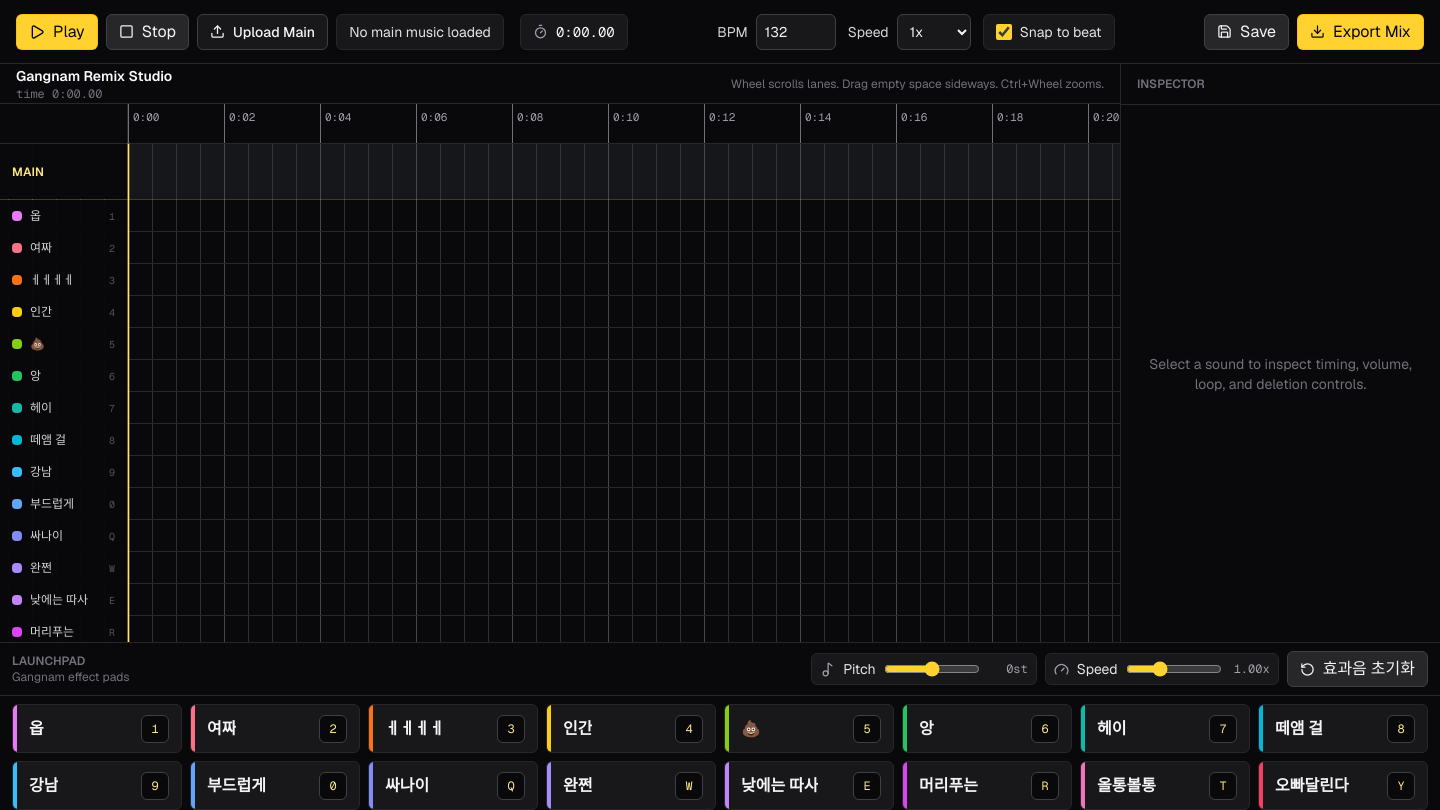
StudioShell › can clear placed effects from the launchpad
The width and height of the screenshot is (1440, 810).
Press 1
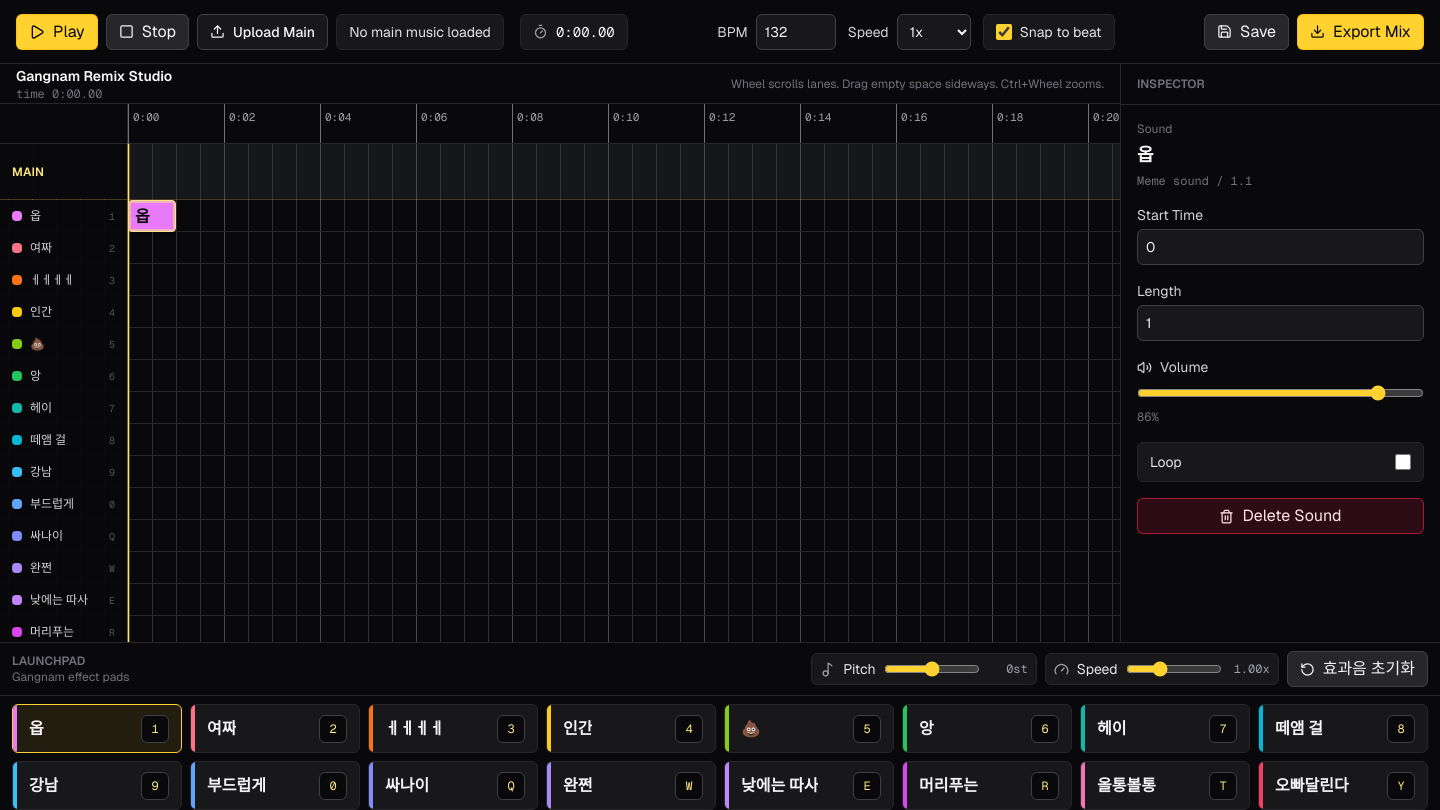
Expected: the button with test id "timeline-clip" is shown, [128,200,176,232]
Click the button labelled "효과음 초기화": coordinates (1357, 669) [1287,651,1428,687]
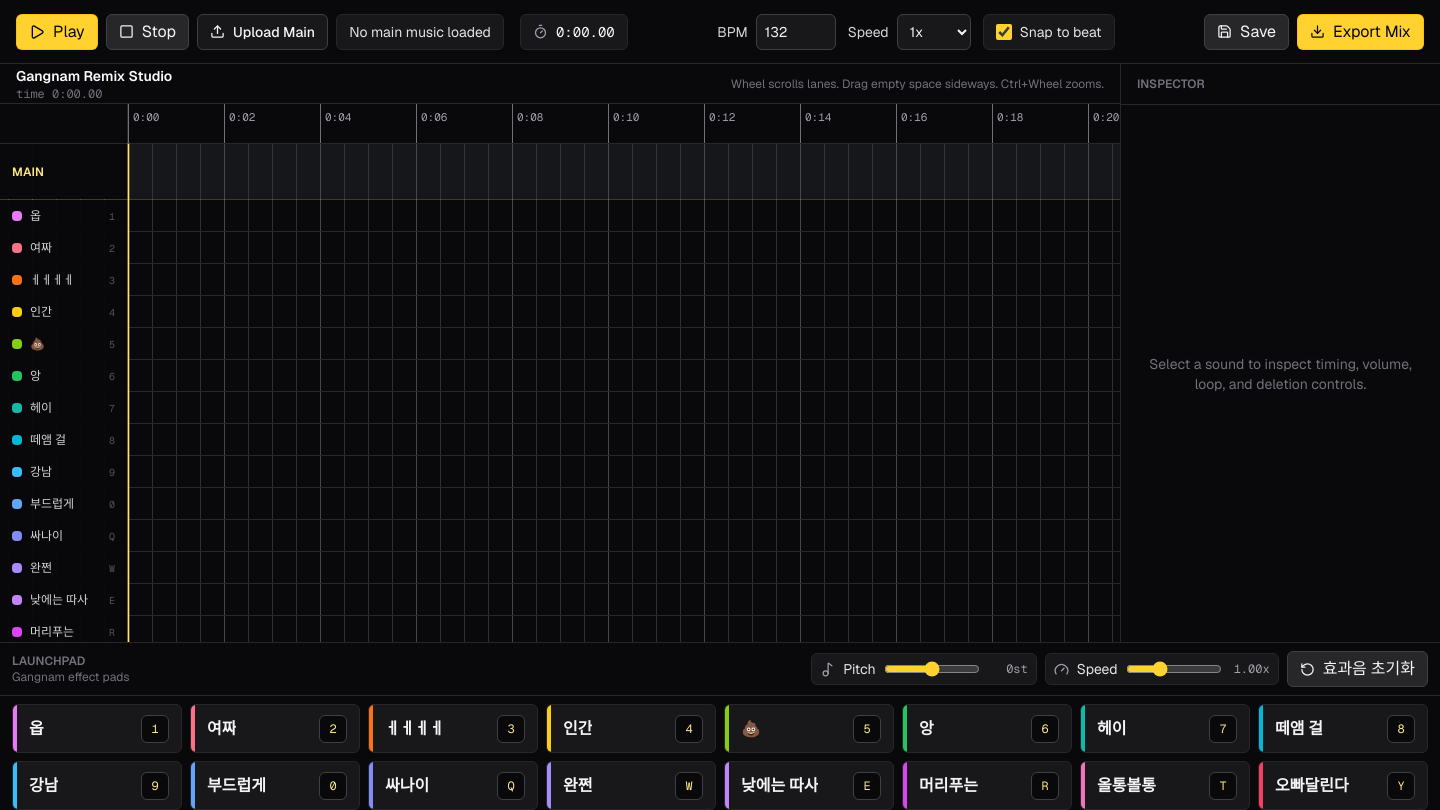
Expected: the button with test id "timeline-clip" is gone
